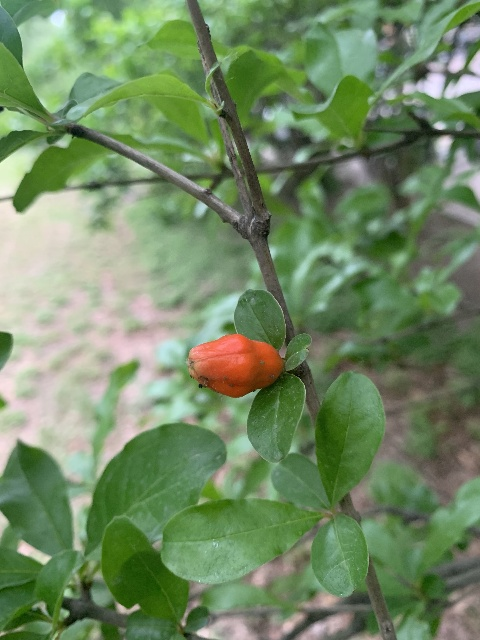bud: (186, 333, 283, 397)
